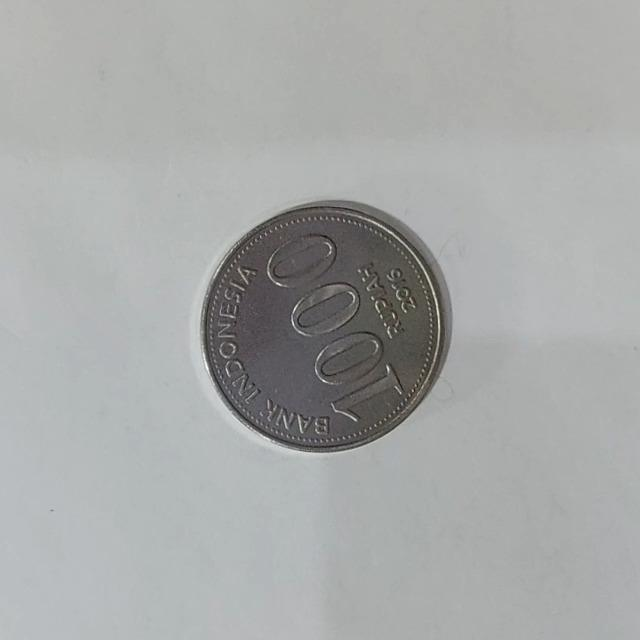Rp100: (198, 197, 453, 454)
